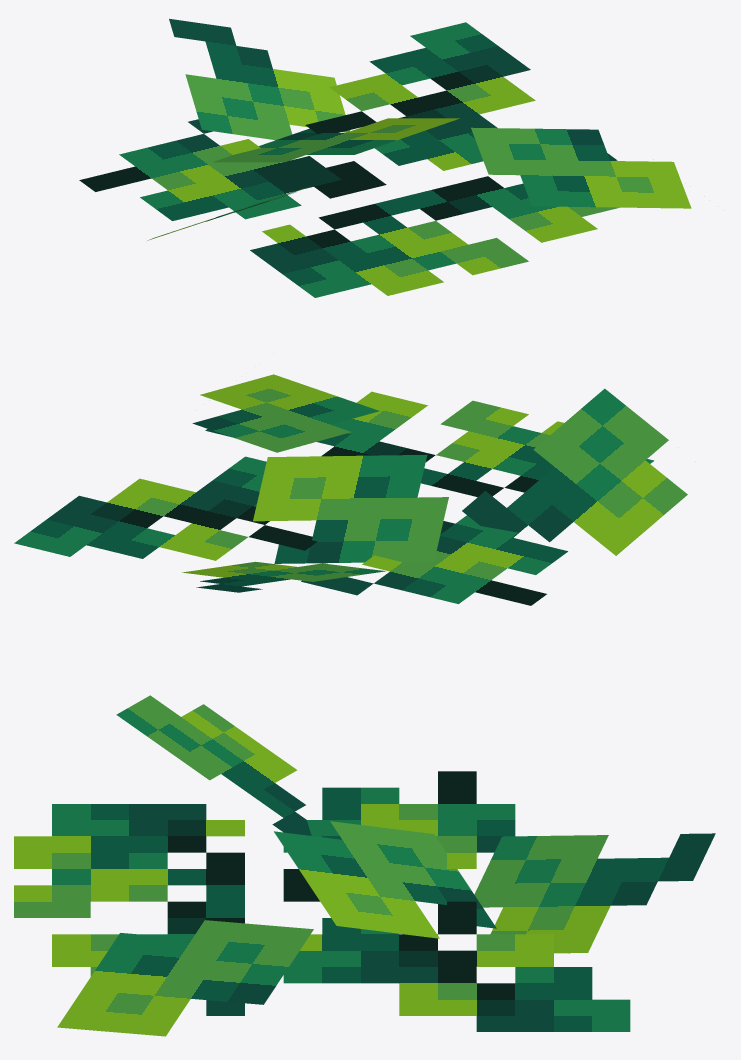
File: clover-patch.gltf
3 renders of one model, top to bottom at view 1: azimuth 30°, elevation 25°; view 2: azimuth 150°, elevation 25°; view 3: azimuth 270°, elevation 25°, orthographic. The views are drawn at different scales.
Parts seen in each view (by area): view 1: clover-patch (×4); view 2: clover-patch (×5); view 3: clover-patch (×5).
Boxes of the visible parts, <box> form: clover-patch (×4): <box>79,18,691,297</box>; clover-patch (×5): <box>14,374,687,605</box>; clover-patch (×5): <box>14,695,715,1036</box>.
Bounding box in the file's own units: 1.2 × 0.2617 × 1.16.
1 material, 1 textured.
